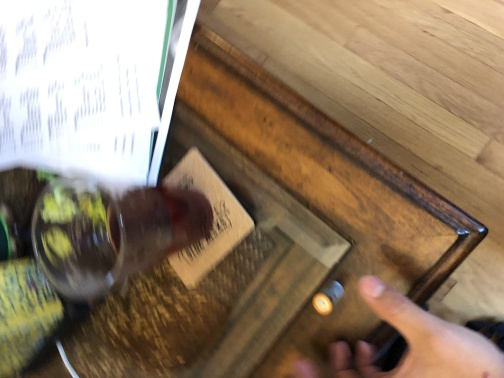battery: (311, 280, 346, 317)
